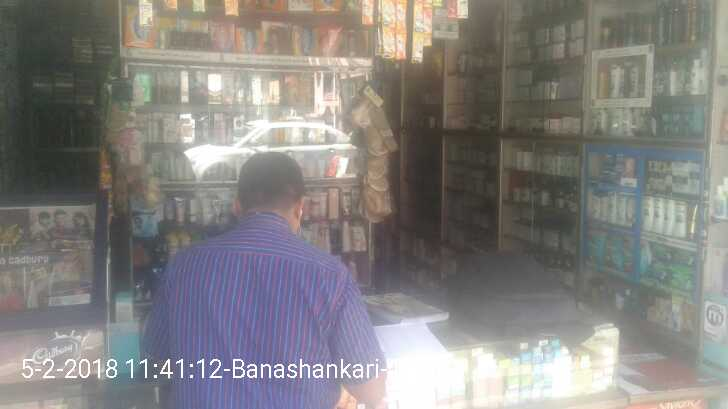beauty: (674, 200, 689, 239), (640, 195, 654, 233), (672, 160, 689, 190), (662, 199, 674, 241), (687, 203, 698, 243), (687, 160, 701, 190), (654, 196, 664, 237), (606, 191, 616, 226), (617, 193, 626, 227)
pharmacy: (670, 267, 697, 293), (606, 231, 623, 267), (672, 248, 696, 271)
